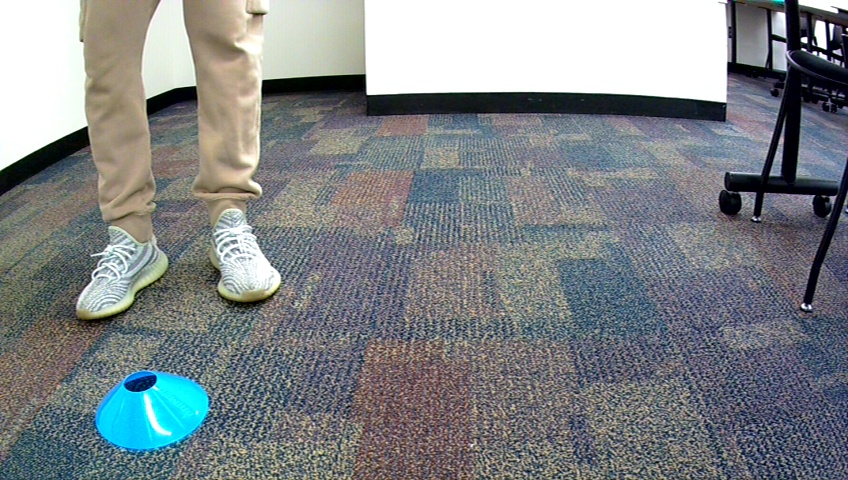cone: (94, 366, 211, 450)
